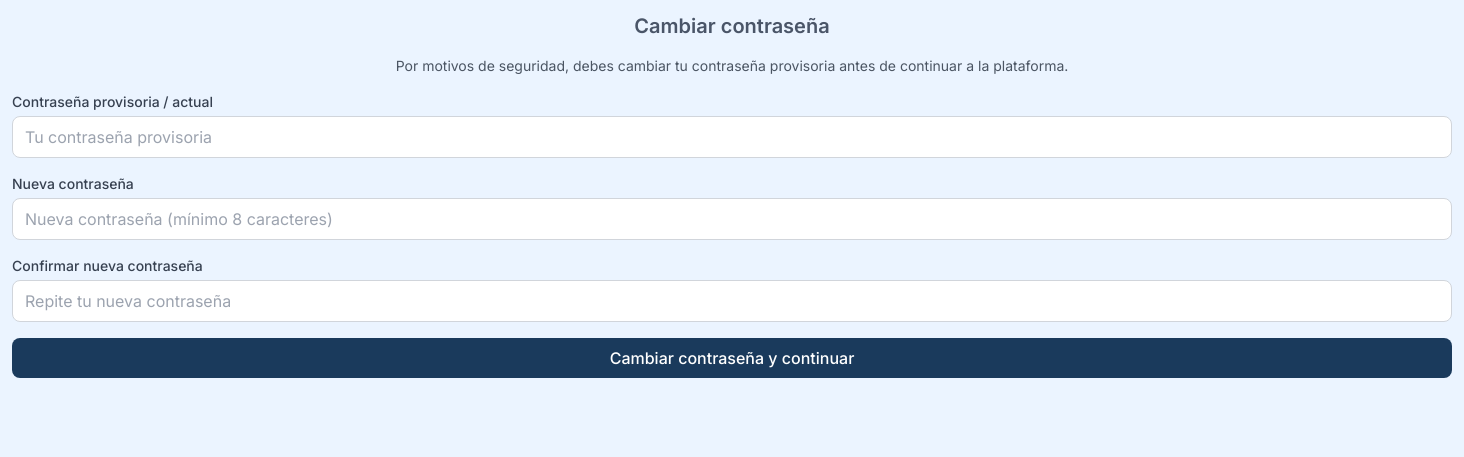
Test: ChangePasswordPage (relevo-web) › muestra translatedMessage cuando el error es un ApiError con translatedMessage
Type "wrongOld" into the password field labelled "Contraseña provisoria / actual". click: point(732, 137)
box: x1=12 y1=116 x2=1452 y2=158
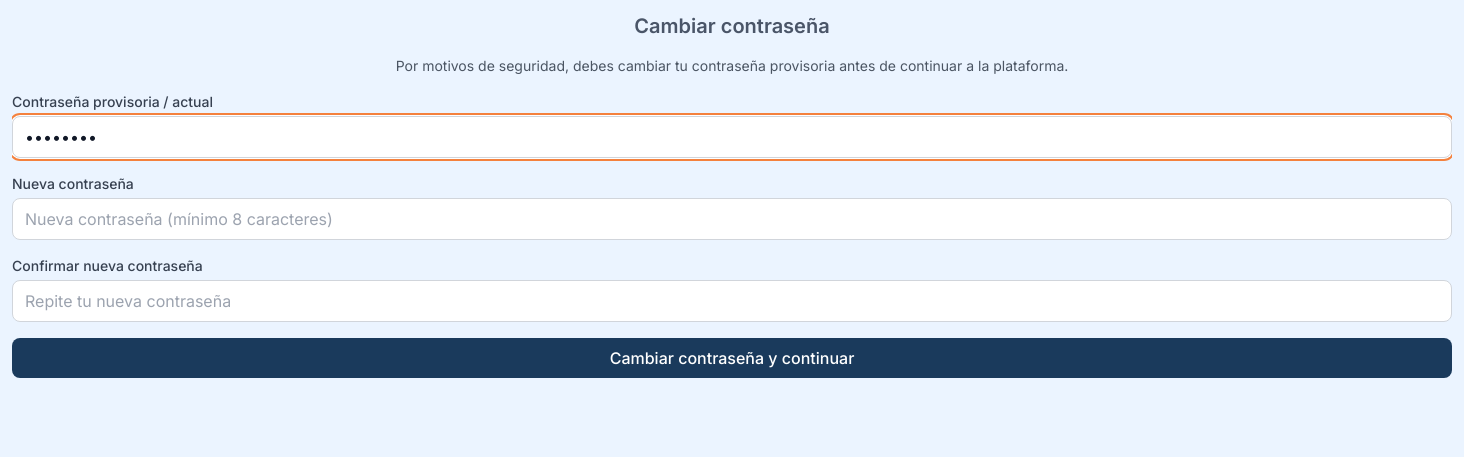
Type "newPass456" into the password field labelled "Nueva contraseña". click: point(732, 219)
box: x1=12 y1=198 x2=1452 y2=240
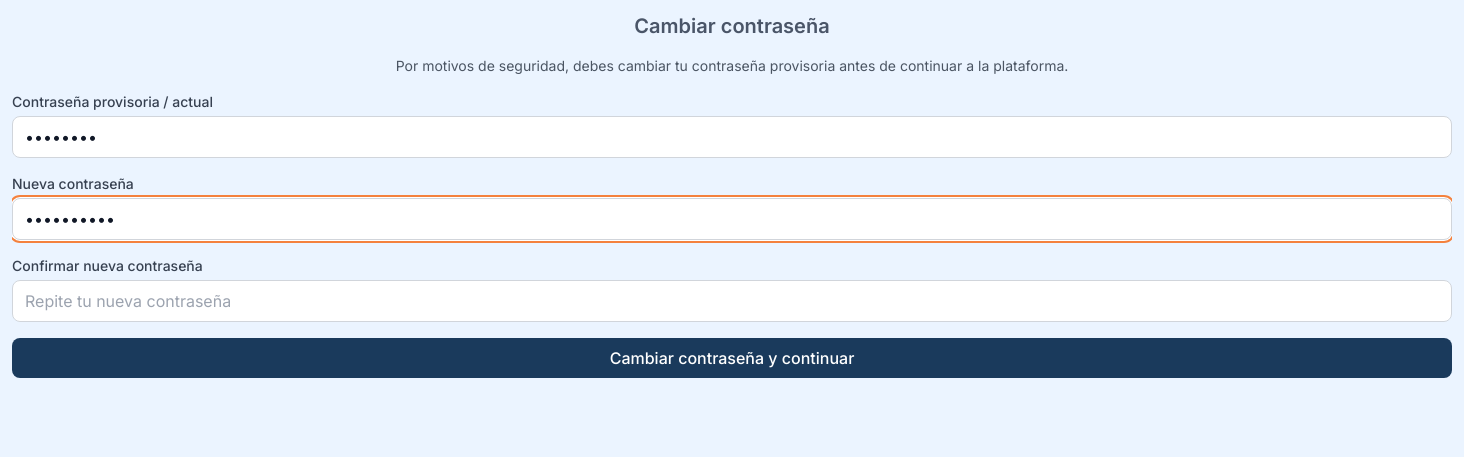
Type "newPass456" into the password field labelled "Confirmar nueva contraseña". click: point(732, 301)
box: x1=12 y1=280 x2=1452 y2=322
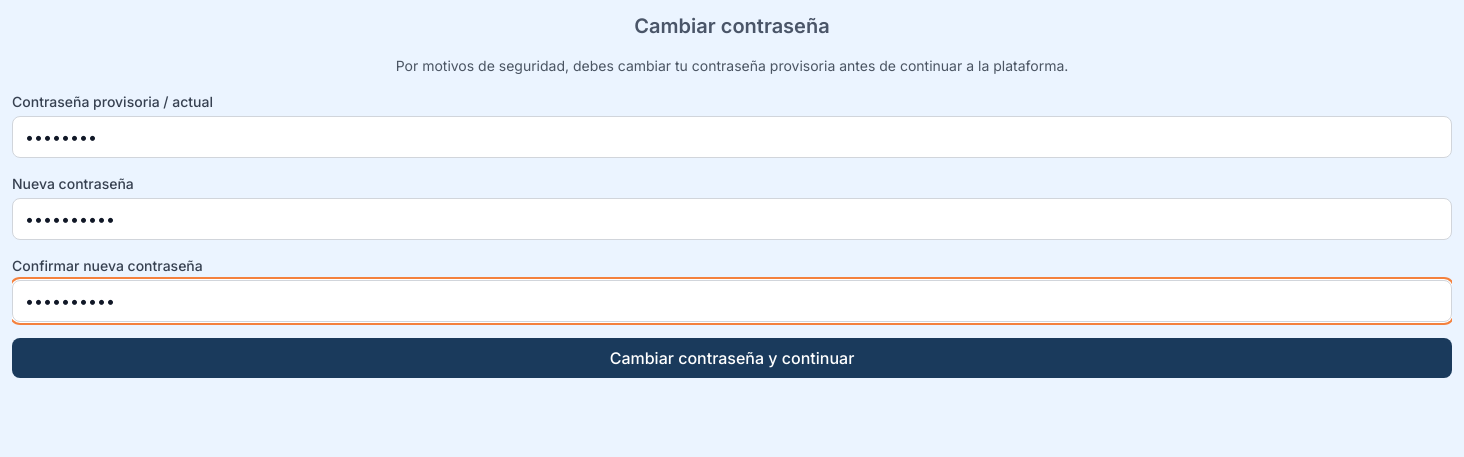
Click the button "Cambiar contraseña y continuar". click: point(732, 358)
box: x1=12 y1=338 x2=1452 y2=378
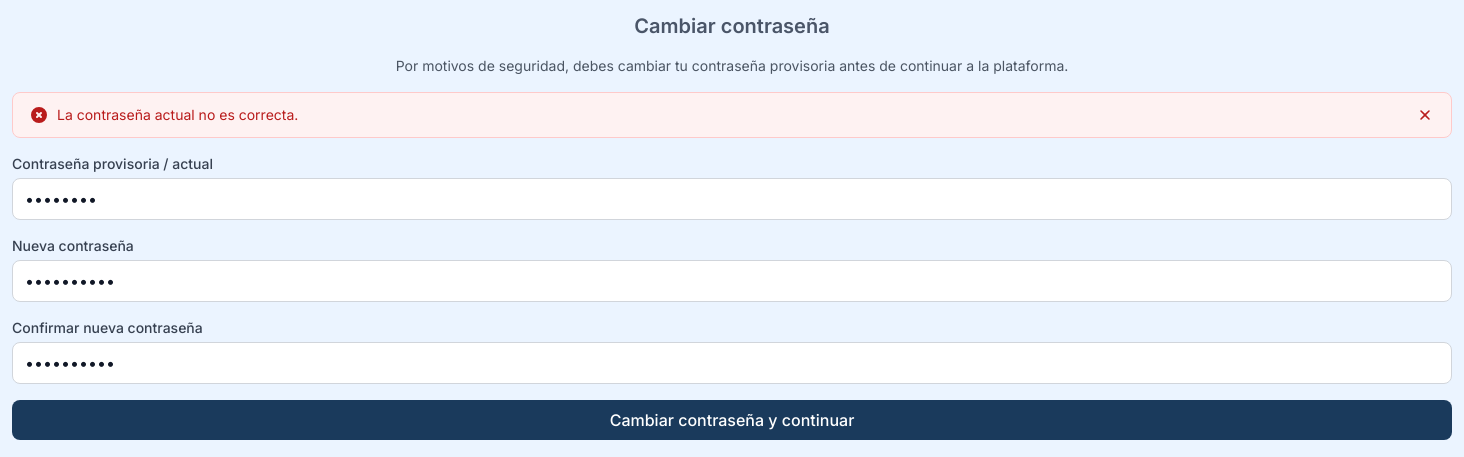
Expected: the text "La contraseña actual no es correcta." is shown, x1=57 y1=106 x2=298 y2=123
